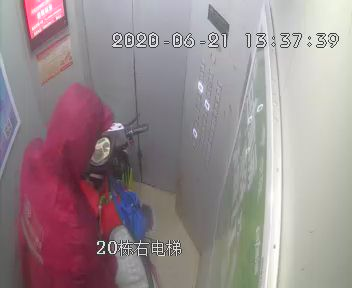Electric-bicycle: (87, 119, 159, 288)
